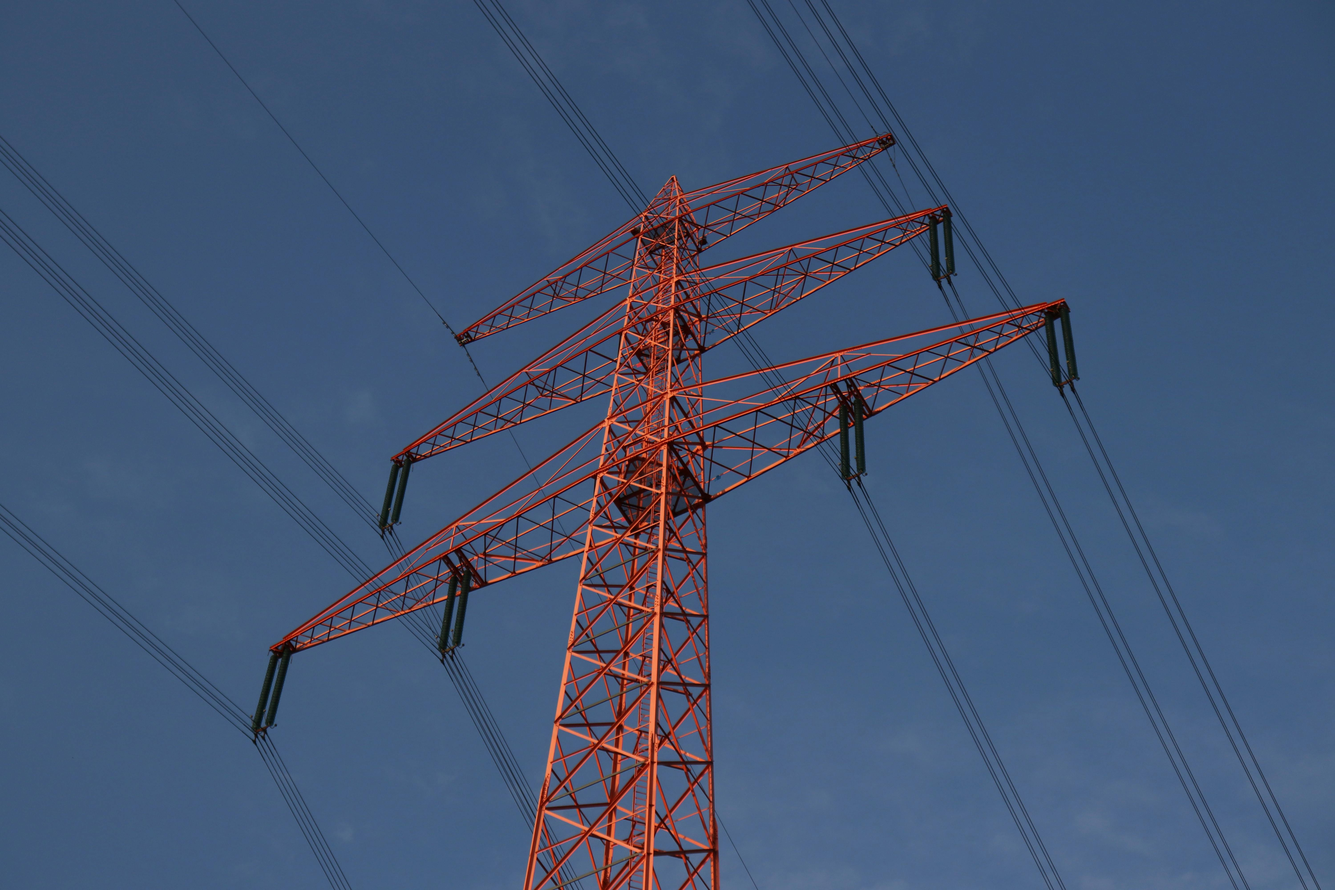insulator: (245, 638, 303, 738), (432, 561, 478, 662), (1038, 296, 1082, 393), (829, 393, 872, 487), (378, 448, 419, 532), (919, 204, 960, 286)
